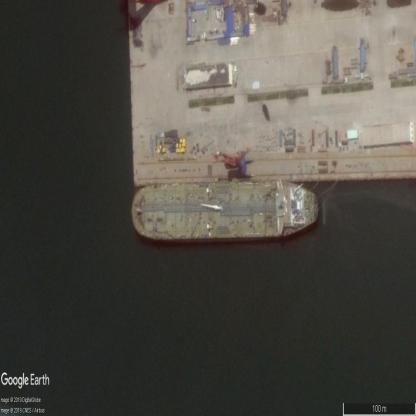ship: (130, 180, 319, 242)
